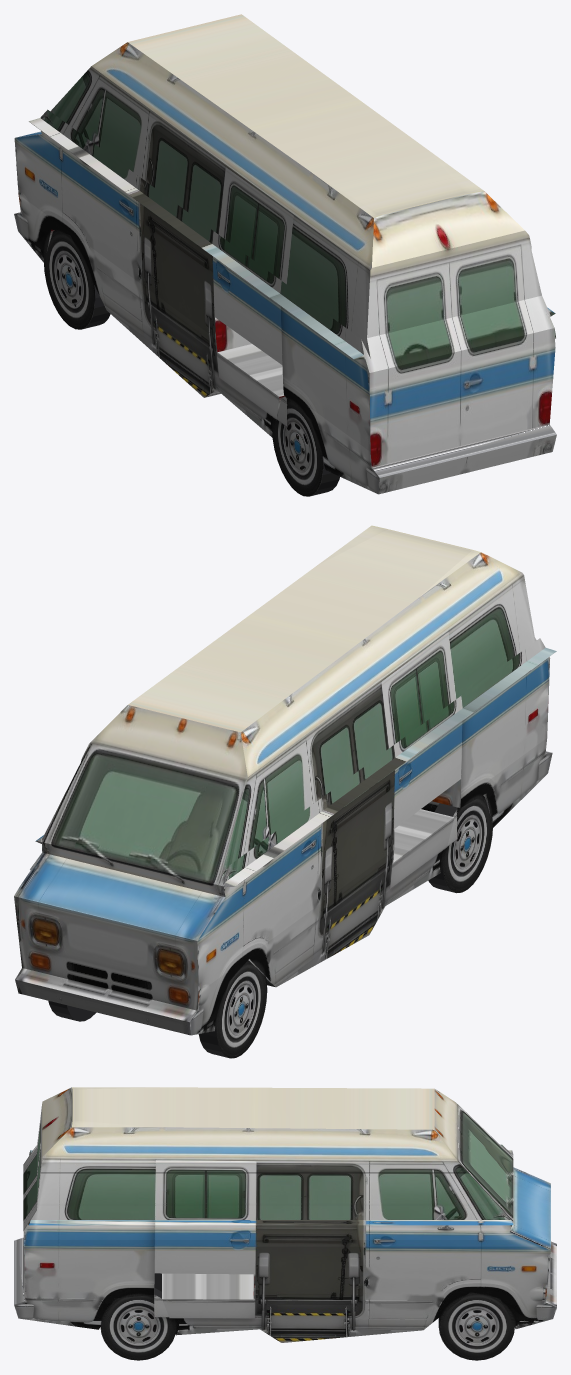
File: paratransit_van.glb
The picture shows the model from 3 angles, top to bottom: view 1: azimuth 30°, elevation 25°; view 2: azimuth 150°, elevation 25°; view 3: azimuth 270°, elevation 25°; orthographic projection. The views are drawn at different scales.
Parts seen in each view (by area): view 1: paratransit_van, wheel_FL, wheel_BL; view 2: paratransit_van, wheel_BL, wheel_FL; view 3: paratransit_van, wheel_FR, wheel_BR.
Boxes of the visible parts, x1,y1,x2,y2 form: paratransit_van: (14, 14, 556, 494); wheel_FL: (43, 230, 110, 329); wheel_BL: (272, 396, 339, 496); paratransit_van: (14, 525, 556, 1035); wheel_BL: (428, 795, 493, 893); wheel_FL: (198, 960, 267, 1058); paratransit_van: (14, 1087, 556, 1342); wheel_FR: (438, 1292, 514, 1360); wheel_BR: (100, 1288, 175, 1360).
Size of the model in its own units: 1.9 by 2.72 by 5.99.
Materials: 3 (1 with a texture image).
